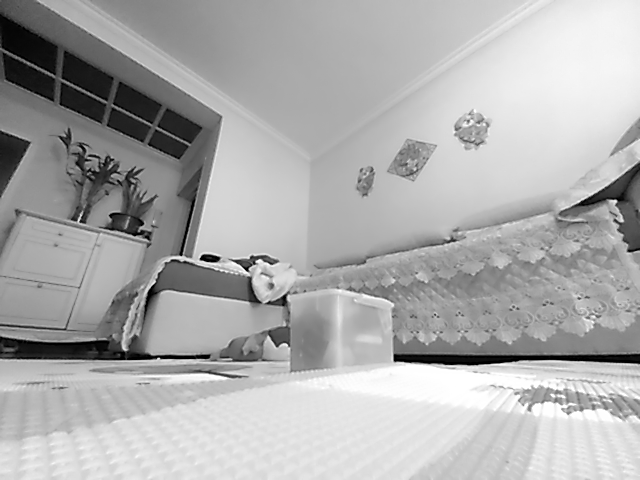others: (289, 338, 401, 369)
toy: (208, 325, 290, 362)
